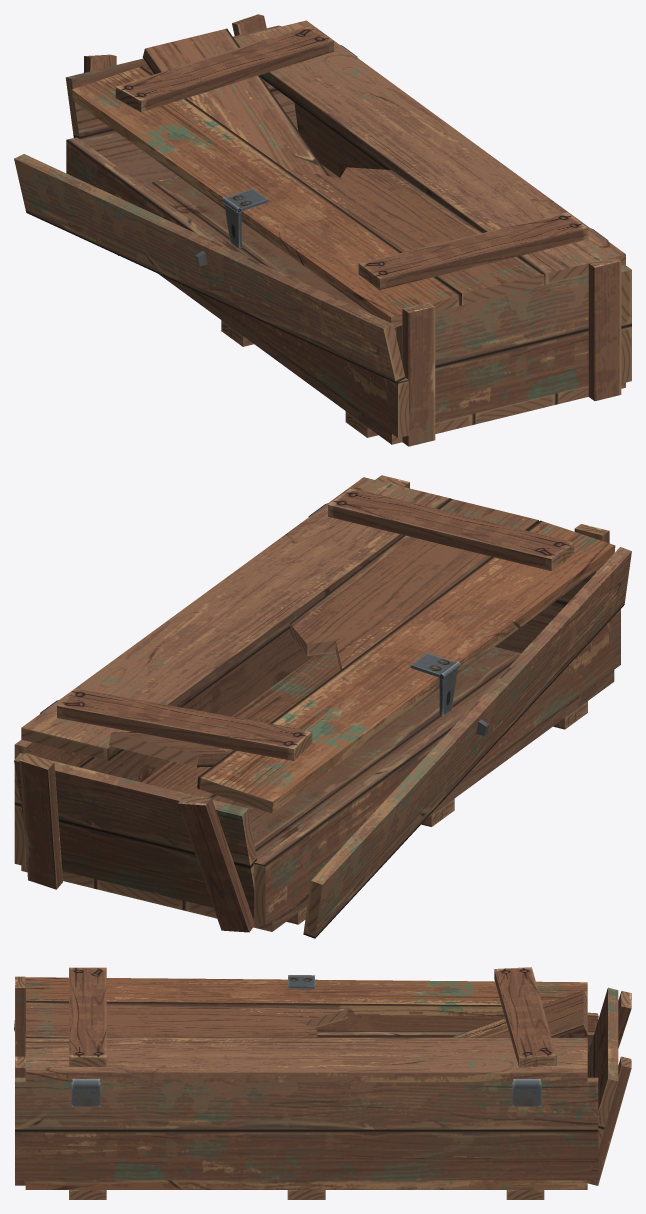
File: crate03_B.fbx
The picture shows the model from 3 angles, top to bottom: view 1: azimuth 30°, elevation 25°; view 2: azimuth 150°, elevation 25°; view 3: azimuth 270°, elevation 25°; orthographic projection. The views are drawn at different scales.
Parts seen in each view (by area): view 1: crate03_B; view 2: crate03_B; view 3: crate03_B.
Part boxes in pixels (box(x1,y1,x2,y2)): crate03_B: box(14, 14, 631, 446); crate03_B: box(14, 475, 631, 938); crate03_B: box(14, 967, 631, 1199).
Bounding box in the file's own units: 55.66 × 28.42 × 114.
